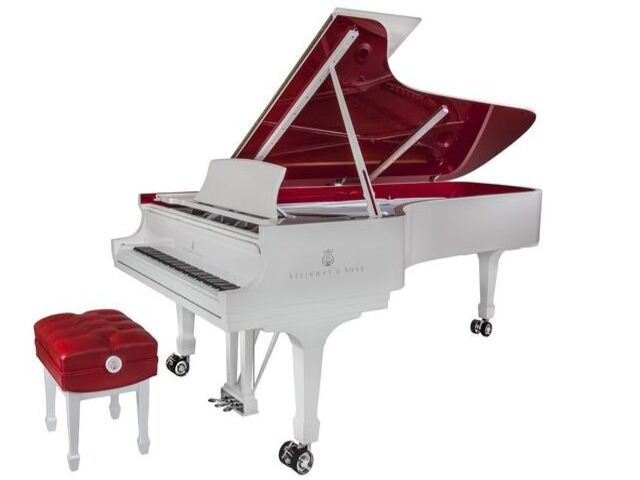Piano: (110, 4, 549, 475)
